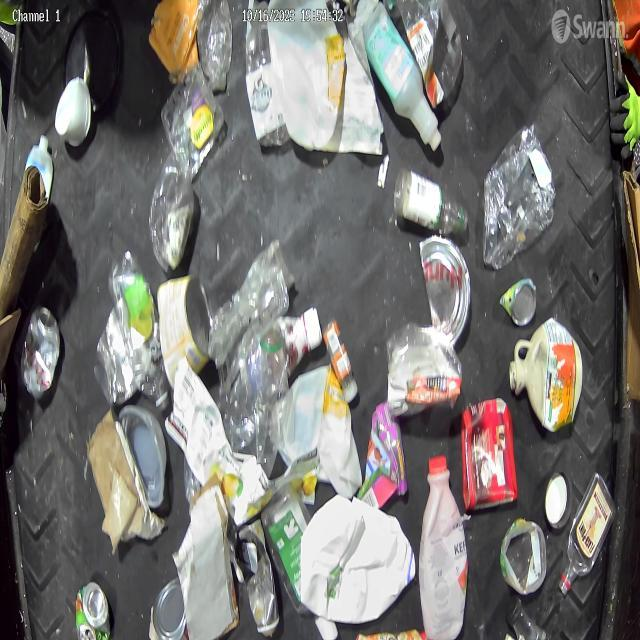can: (156, 274, 214, 397), (20, 288, 64, 420), (145, 576, 193, 640), (70, 575, 107, 640)
milk_jug: (180, 322, 292, 534), (299, 494, 419, 628), (265, 0, 350, 175), (276, 363, 368, 507)
non_white_jug: (510, 309, 587, 452), (459, 387, 516, 515)
plastic_bottle: (213, 244, 296, 376), (192, 0, 236, 99)
